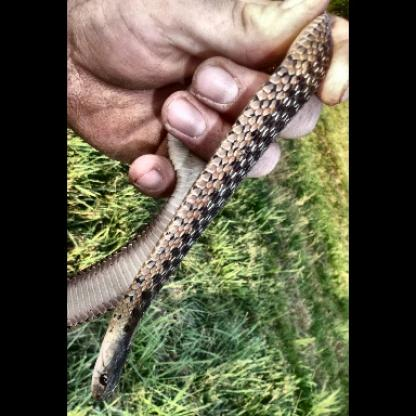Snake: (70, 195, 174, 400)
